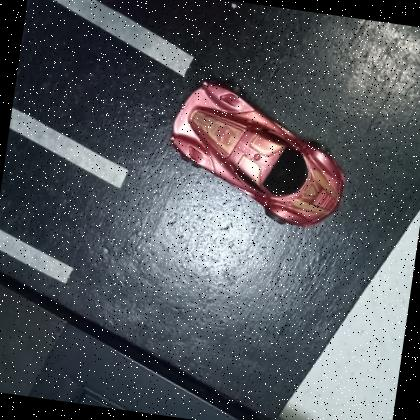Car: (159, 76, 360, 236)
